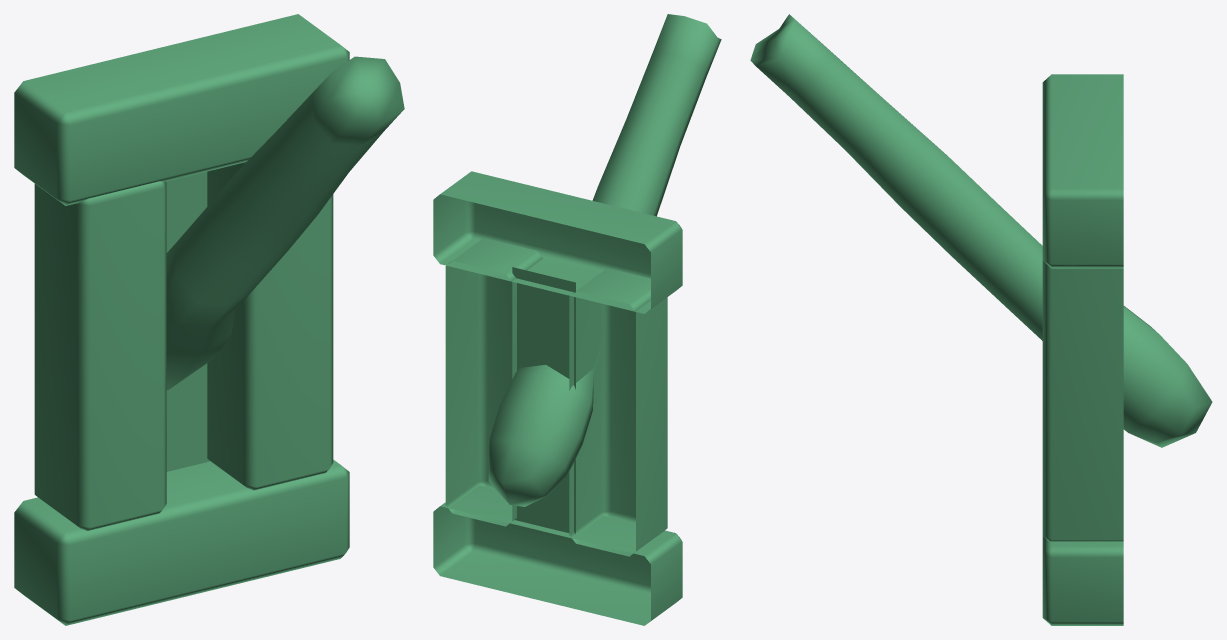
File: SM_Levier.fbx
3 views of the same model, side by side, from view 1: azimuth 30°, elevation 25°; view 2: azimuth 150°, elevation 25°; view 3: azimuth 270°, elevation 25° (orthographic). The views are drawn at different scales.
Visible parts, largest first — view 1: SM_Levier; view 2: SM_Levier; view 3: SM_Levier.
Part boxes in pixels (left/top/right/bottom): SM_Levier: left=14, top=14, right=404, bottom=625; SM_Levier: left=433, top=14, right=721, bottom=625; SM_Levier: left=750, top=14, right=1212, bottom=625.
Bounding box in the file's own units: 0.3233 × 0.6806 × 0.5186.
